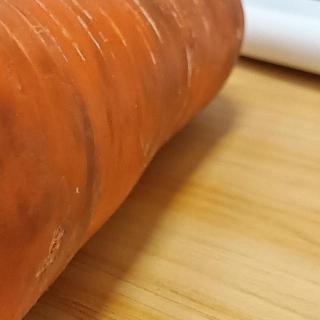carrot: (0, 0, 248, 320)
